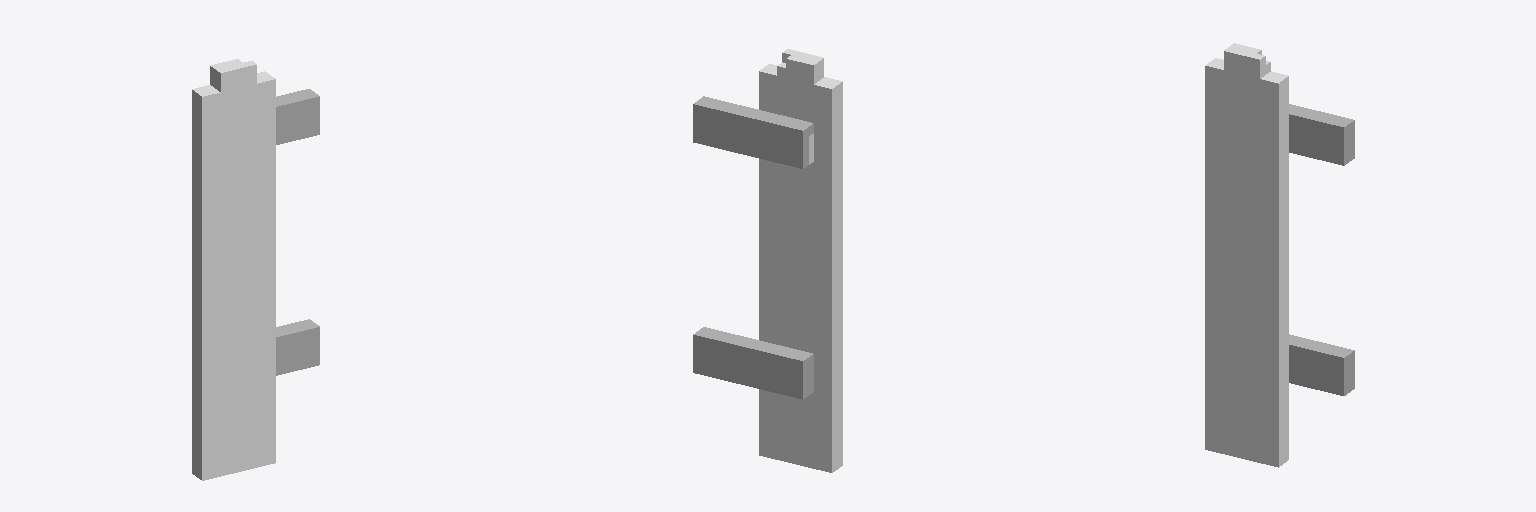
3 renders of one model, left to right at view 1: azimuth 30°, elevation 25°; view 2: azimuth 150°, elevation 25°; view 3: azimuth 330°, elevation 25°, orthographic.
Visible parts, largest first — view 1: casa-1; view 2: casa-1; view 3: casa-1.
Part boxes in pixels (x1,y1,x2,y2): casa-1: (192, 59, 319, 480); casa-1: (693, 49, 842, 472); casa-1: (1205, 43, 1354, 467).
Bounding box in the file's own units: 14 × 42 × 4.
1 materials, 1 textured.